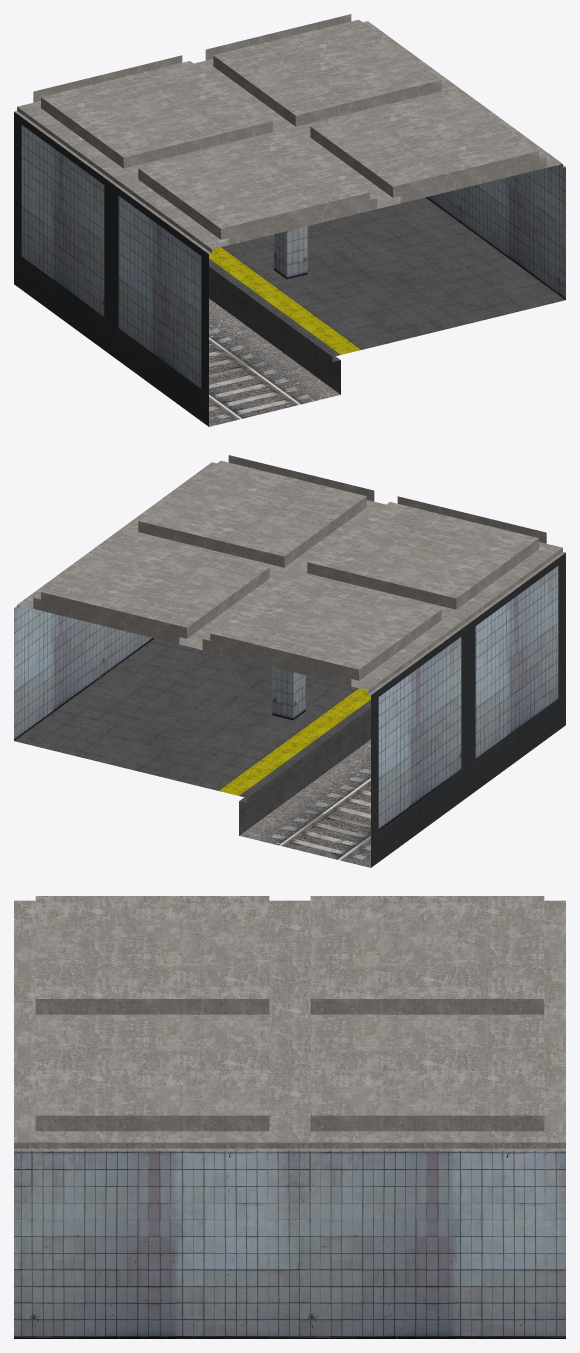
The model's file is TrainStation.glb.
3 renders of one model, top to bottom at view 1: azimuth 30°, elevation 25°; view 2: azimuth 150°, elevation 25°; view 3: azimuth 270°, elevation 25°, orthographic. The views are drawn at different scales.
Visible parts, largest first — view 1: St_01, Column; view 2: St_01, Column; view 3: St_01.
Part boxes in pixels (x1=…): St_01: x1=14, y1=14, x2=565, y2=426; Column: x1=272, y1=127, x2=309, y2=279; St_01: x1=14, y1=455, x2=565, y2=867; Column: x1=270, y1=568, x2=307, y2=720; St_01: x1=14, y1=896, x2=565, y2=1338.
Size of the model in its own units: 13.23 by 6.66 by 12.52.
6 materials, 6 textured.
